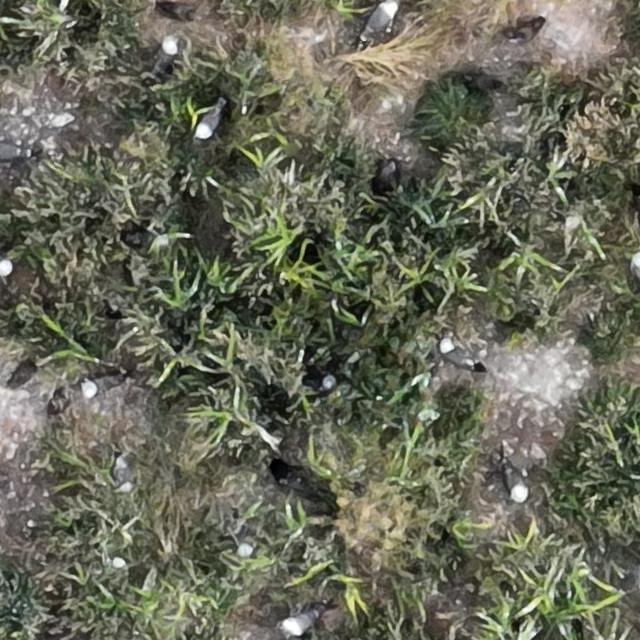umineko: (81, 373, 125, 398), (364, 1, 394, 35), (238, 525, 266, 559), (196, 105, 221, 138), (154, 38, 178, 72), (441, 341, 472, 367), (507, 466, 528, 501), (284, 612, 317, 634), (114, 458, 133, 491), (0, 142, 22, 158), (630, 253, 639, 283), (0, 256, 12, 277)
